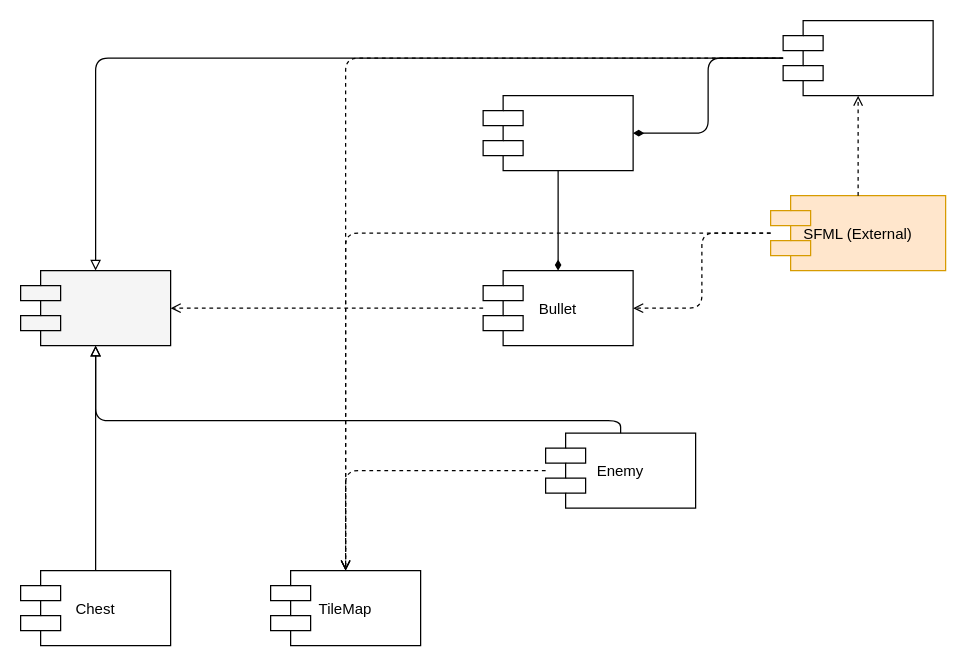
Some shapes in this 966 by 666 pixel diagram are drawn without their labels. Here are the shapes that lost their labels. From the top down, the centre of each, then its label:
At point (857, 57): "Player".
At point (557, 132): "Weapon".
At point (95, 307): "Entity".
